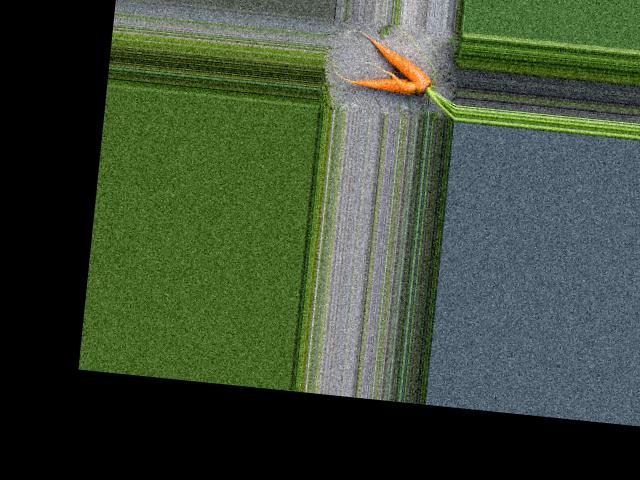carrot: (332, 62, 422, 104)
